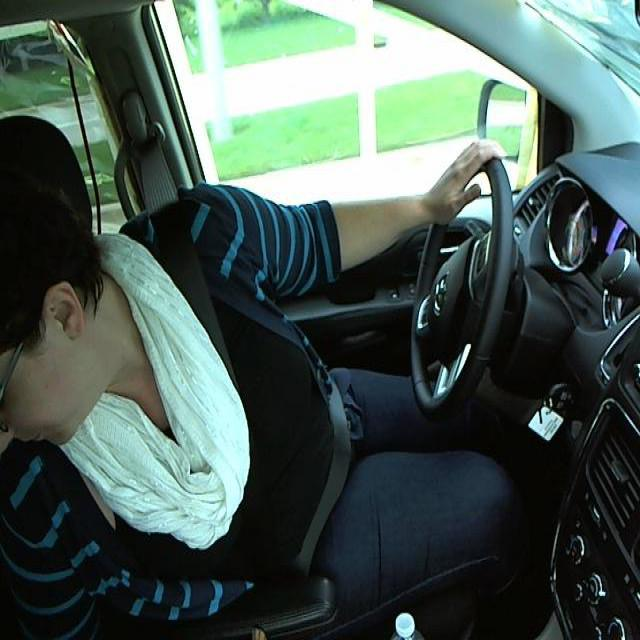seatbelt: (219, 477, 355, 580)
